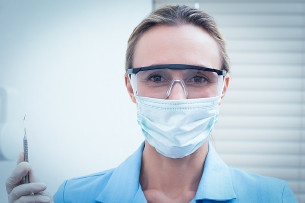Mask: (129, 62, 222, 156)
